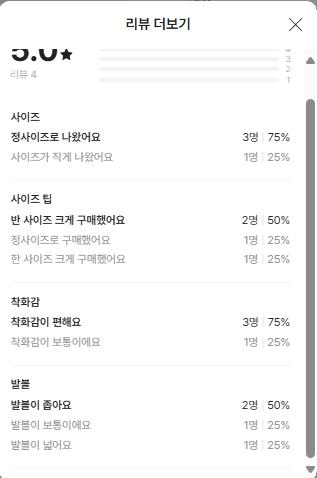button: (287, 15, 306, 35), (304, 463, 315, 473), (305, 51, 312, 63)
